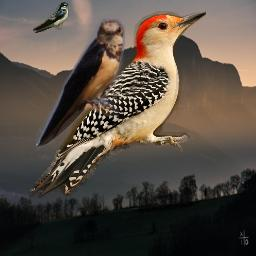Swallow: (36, 19, 125, 151), (33, 2, 69, 33)
Woodpecker: (29, 11, 206, 201)
